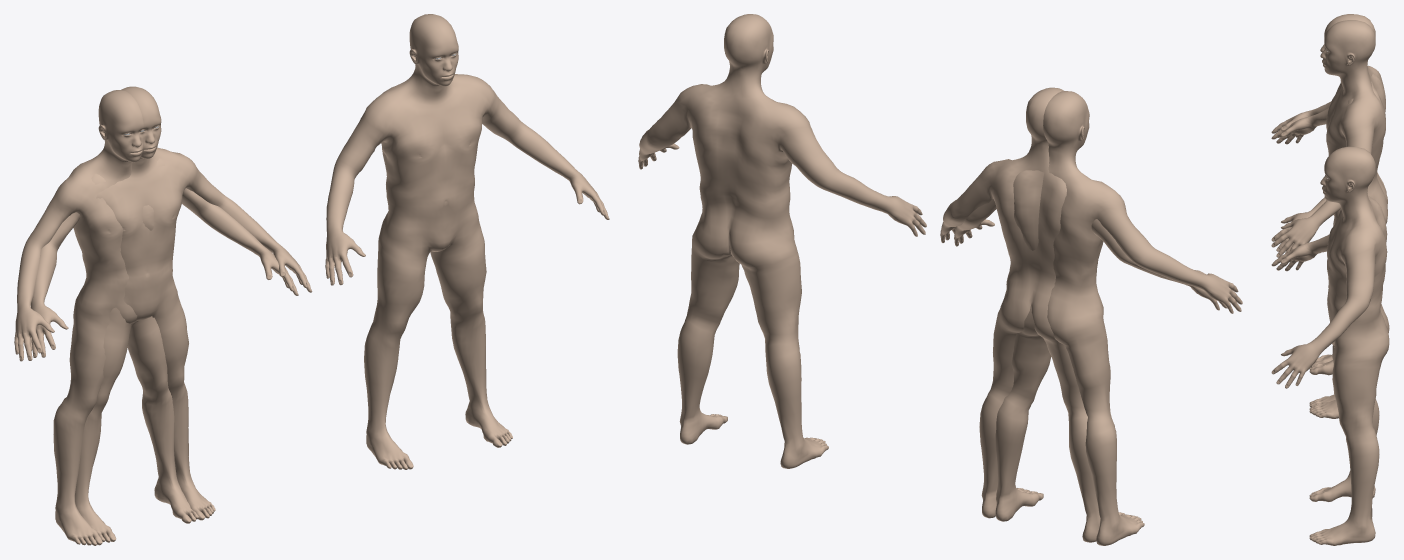
File: Humans-2.gltf
The picture shows the model from 3 angles, left to right: view 1: azimuth 30°, elevation 25°; view 2: azimuth 150°, elevation 25°; view 3: azimuth 270°, elevation 25°; orthographic projection. The views are drawn at different scales.
Visible parts, largest first — view 1: human_short_large-base, human_short_small-base, human_short_regular-base; view 2: human_short_large-base, human_short_small-base, human_short_regular-base; view 3: human_short_large-base, human_short_regular-base, human_short_small-base.
Part boxes in pixels (left/top/right/bottom): human_short_large-base: left=325, top=14, right=609, bottom=469; human_short_small-base: left=14, top=90, right=298, bottom=545; human_short_regular-base: left=30, top=86, right=312, bottom=542; human_short_large-base: left=638, top=14, right=926, bottom=468; human_short_small-base: left=954, top=91, right=1242, bottom=545; human_short_regular-base: left=940, top=87, right=1227, bottom=542; human_short_large-base: left=1271, top=146, right=1389, bottom=545; human_short_regular-base: left=1271, top=20, right=1387, bottom=418; human_short_small-base: left=1271, top=14, right=1386, bottom=407.
Size of the model in its own units: 2.18 by 1.5 by 0.4325.
